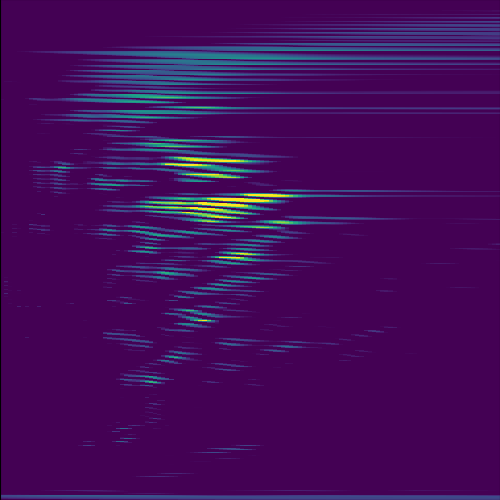semblance: (180, 188, 303, 221), (154, 156, 263, 179)
